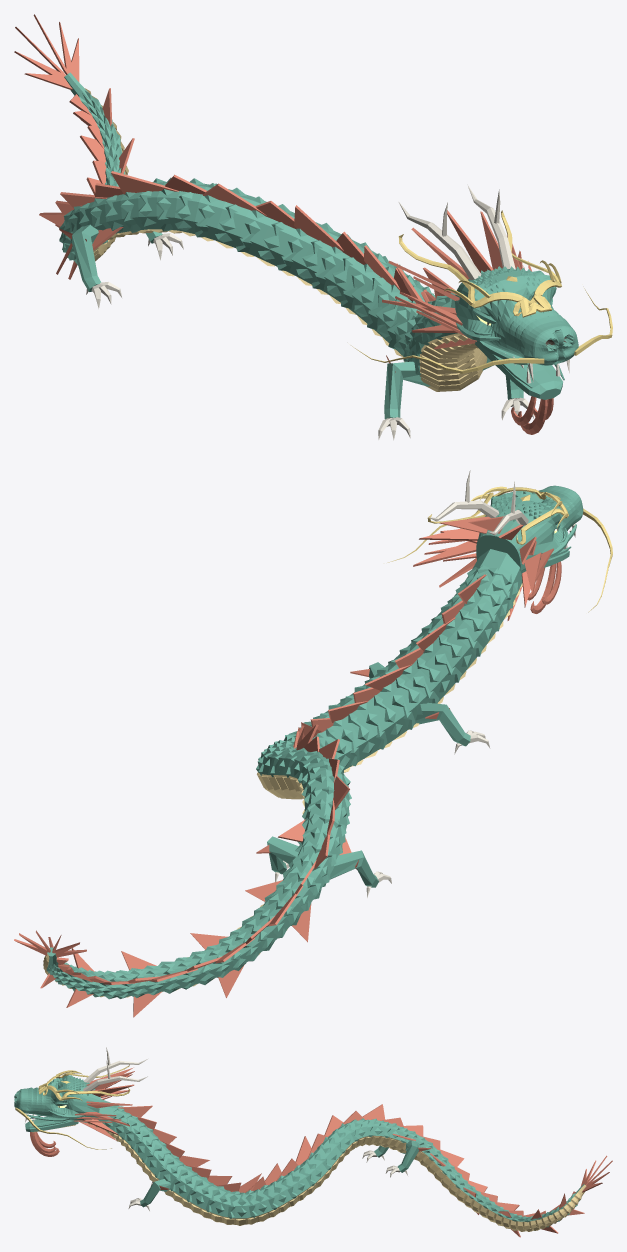
Rendered from Dragon_Long_v6.glb.
3 renders of one model, top to bottom at view 1: azimuth 30°, elevation 25°; view 2: azimuth 150°, elevation 25°; view 3: azimuth 270°, elevation 25°, orthographic. The views are drawn at different scales.
Visible parts, largest first — view 1: Body, Fins, Belly, Horns, Whiskers; view 2: Body, Fins, Whiskers, Horns, Belly; view 3: Body, Fins, Belly, Horns, Whiskers.
Boxes of the visible parts, box(x1,y1,x2,y2) form: Body: box(59, 72, 578, 419); Fins: box(14, 14, 553, 434); Belly: box(84, 88, 487, 391); Horns: box(86, 185, 569, 440); Whiskers: box(351, 210, 612, 373); Body: box(46, 485, 583, 999); Fins: box(14, 516, 561, 1017); Whiskers: box(387, 486, 612, 612); Horns: box(275, 470, 575, 897); Belly: box(43, 583, 522, 997); Body: box(14, 1075, 584, 1230); Fins: box(30, 1067, 612, 1237); Belly: box(32, 1122, 586, 1231); Horns: box(25, 1047, 407, 1210); Whiskers: box(15, 1064, 130, 1149).
Size of the model in its own units: 14.48 by 19.17 by 57.88.
